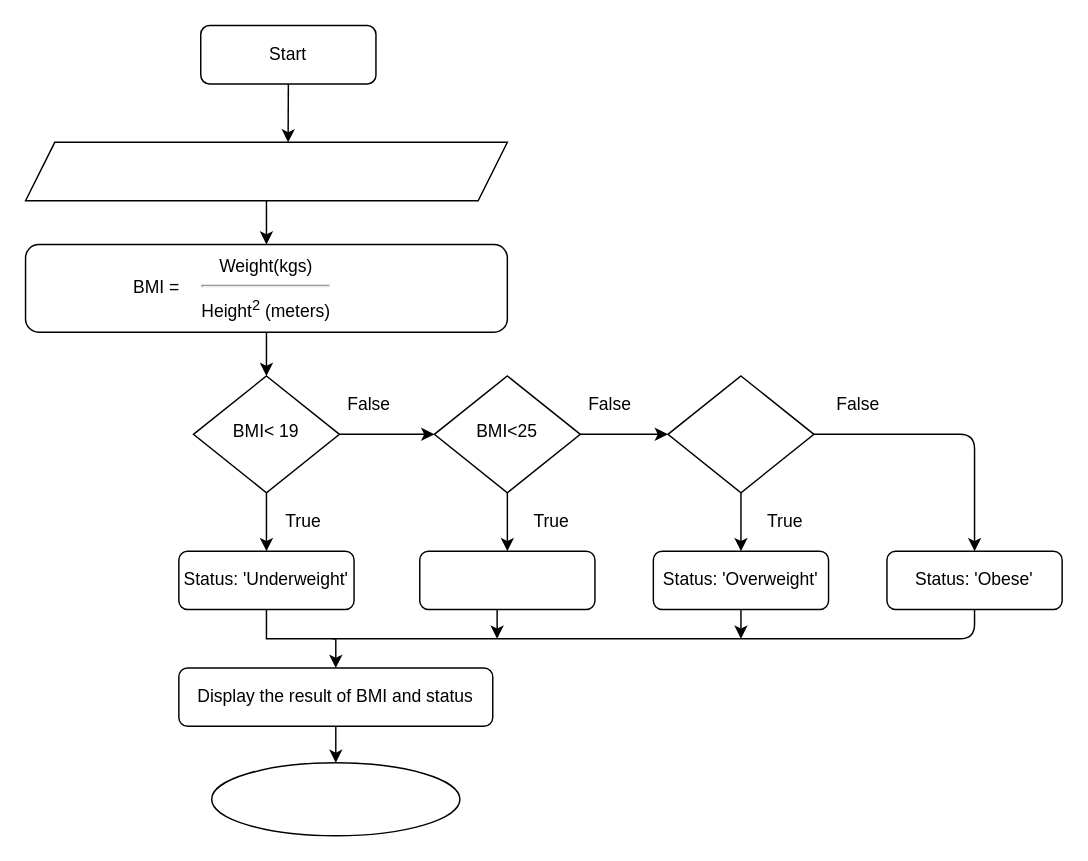
Image size: 1088x861. Some labels were removed from this diagram. The centre of each missing label's shape, as x and y in pixels:
BMI<30: point 740,433
Get user input of body weight and height: point 265,171
Status: 'Normal': point 506,580
Terminate: point 335,798
